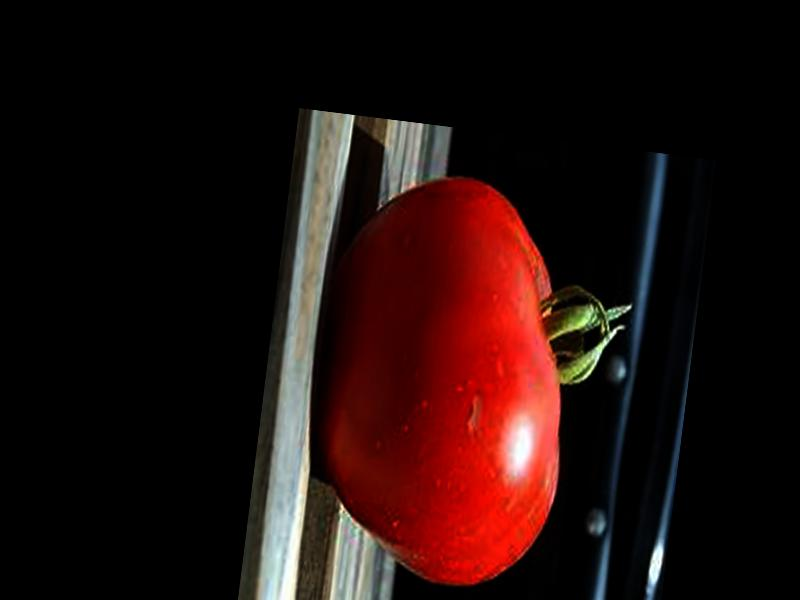Tomato: (299, 164, 642, 600)
